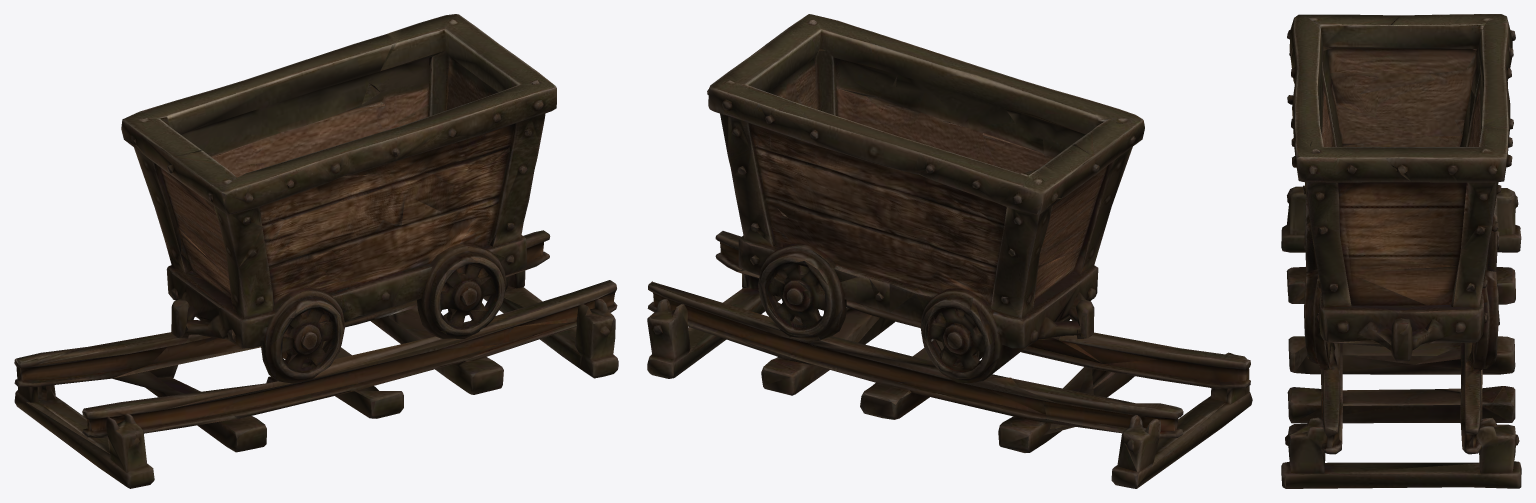
File: ore_cart.glb
The picture shows the model from 3 angles, left to right: view 1: azimuth 30°, elevation 25°; view 2: azimuth 150°, elevation 25°; view 3: azimuth 270°, elevation 25°; orthographic projection. The views are drawn at different scales.
Visible parts, largest first — view 1: Mesh_0; view 2: Mesh_0; view 3: Mesh_0.
Boxes of the visible parts, left/top/right/bottom form: Mesh_0: left=14, top=14, right=618, bottom=488; Mesh_0: left=647, top=14, right=1252, bottom=488; Mesh_0: left=1281, top=14, right=1521, bottom=488.
Size of the model in its own units: 2.24 by 1.2 by 0.8494.
1 material, 1 textured.
